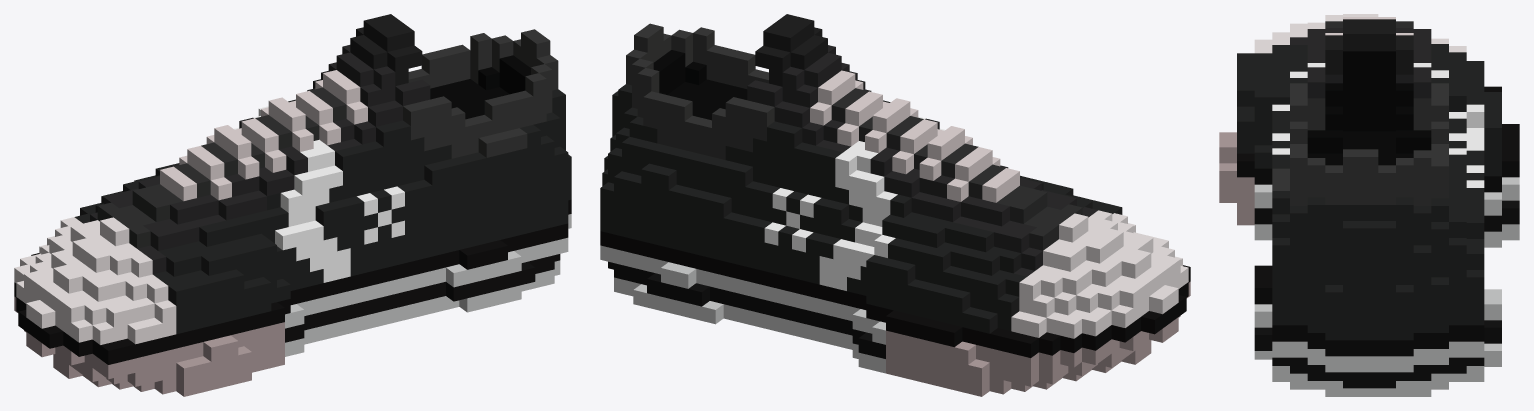
File: Classic.fbx
3 views of the same model, side by side, from view 1: azimuth 30°, elevation 25°; view 2: azimuth 150°, elevation 25°; view 3: azimuth 270°, elevation 25° (orthographic). The views are drawn at different scales.
Visible parts, largest first — view 1: Untitled; view 2: Untitled; view 3: Untitled.
Boxes of the visible parts, x1=… form: Untitled: x1=14, y1=14, x2=571, y2=396; Untitled: x1=600, y1=14, x2=1190, y2=396; Untitled: x1=1219, y1=14, x2=1519, y2=396.
Size of the model in its own units: 390 by 180 by 170.
